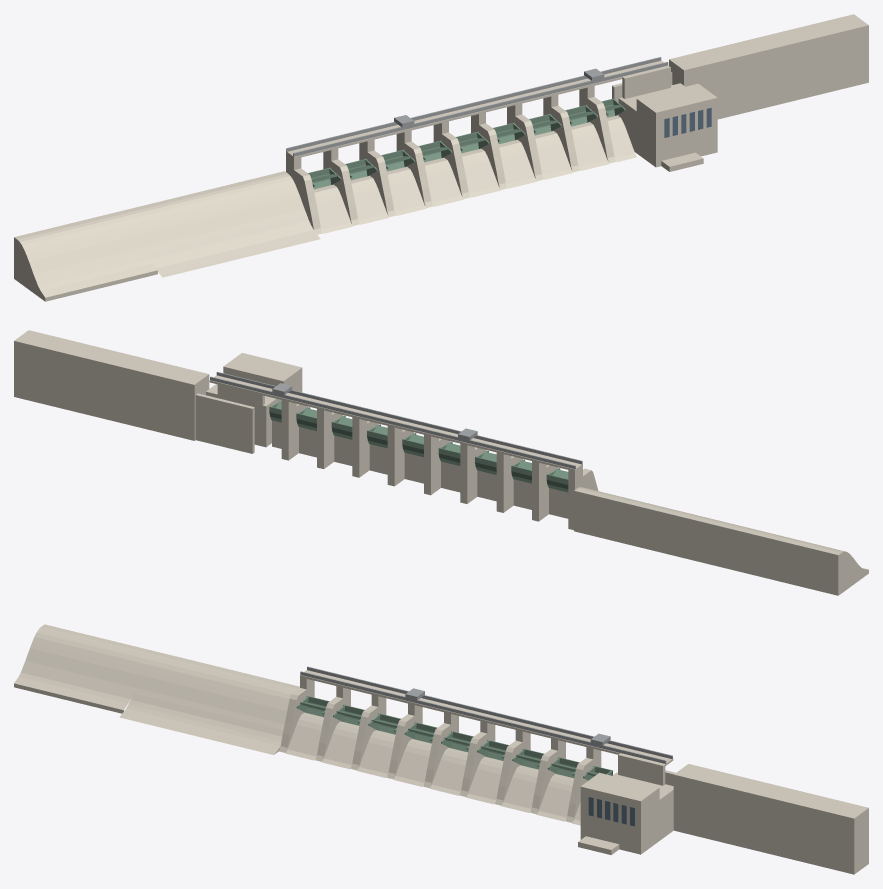
The model's file is atx-tom-miller-dam.glb.
3 renders of one model, top to bottom at view 1: azimuth 30°, elevation 25°; view 2: azimuth 150°, elevation 25°; view 3: azimuth 330°, elevation 25°, orthographic. The views are drawn at different scales.
Parts seen in each view (by area): view 1: Tom Miller Dam; view 2: Tom Miller Dam; view 3: Tom Miller Dam.
Boxes of the visible parts, x1,y1,x2,y2 form: Tom Miller Dam: (14,14,868,301); Tom Miller Dam: (14,330,868,595); Tom Miller Dam: (14,624,868,874).
Size of the model in its own units: 419 by 33 by 49.
